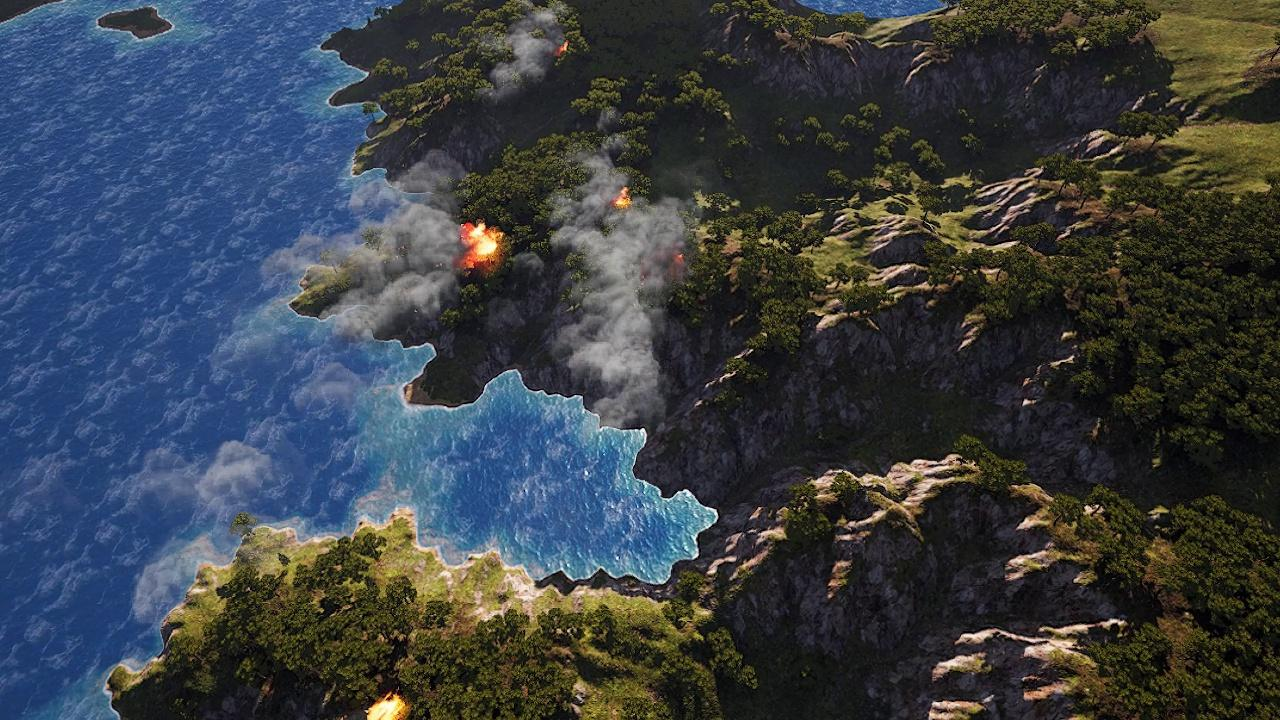fire: (465, 221, 504, 267), (366, 697, 406, 720), (614, 189, 634, 210), (671, 250, 688, 266), (557, 40, 570, 55)
smoke: (132, 150, 471, 634), (517, 138, 704, 433), (487, 2, 570, 101)
